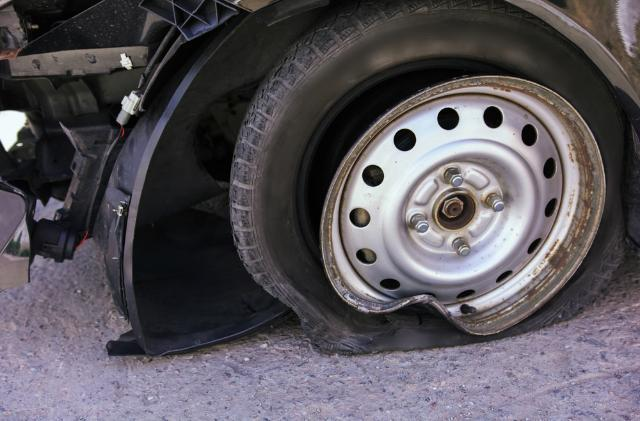no part: (0, 0, 274, 308)
tire flat: (232, 0, 628, 359)
